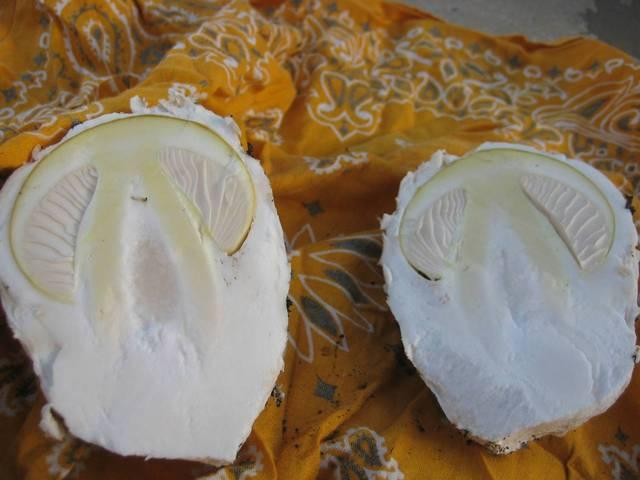edible_mushroom: (0, 89, 291, 466), (377, 141, 639, 456)
